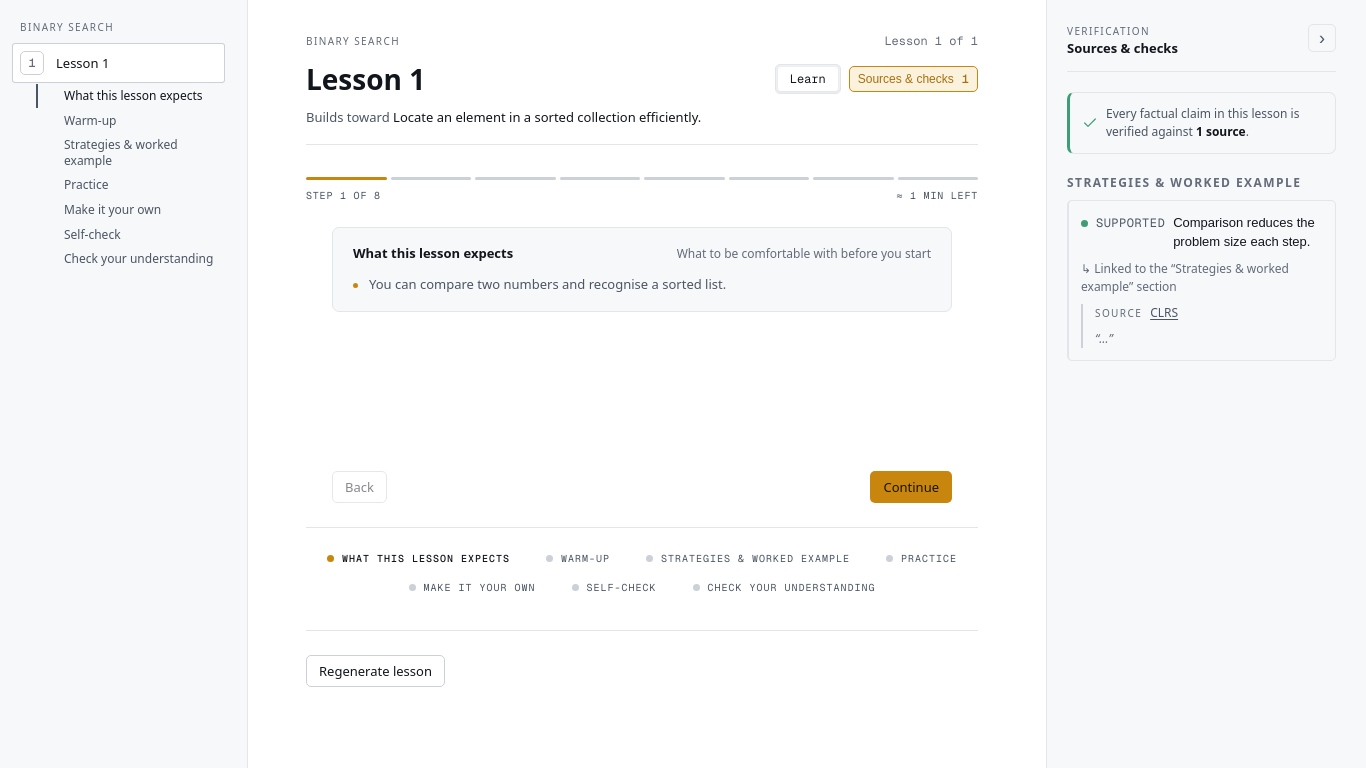
CourseReader — regenerate › regenerates the focused lesson and swaps in the returned course
The image size is (1366, 768).
Expected: the text "Locate an element in a sorted collection efficiently." is shown, left=393, top=108, right=701, bottom=126
Click the button "Regenerate lesson" at (376, 670), box left=306, top=654, right=445, bottom=686
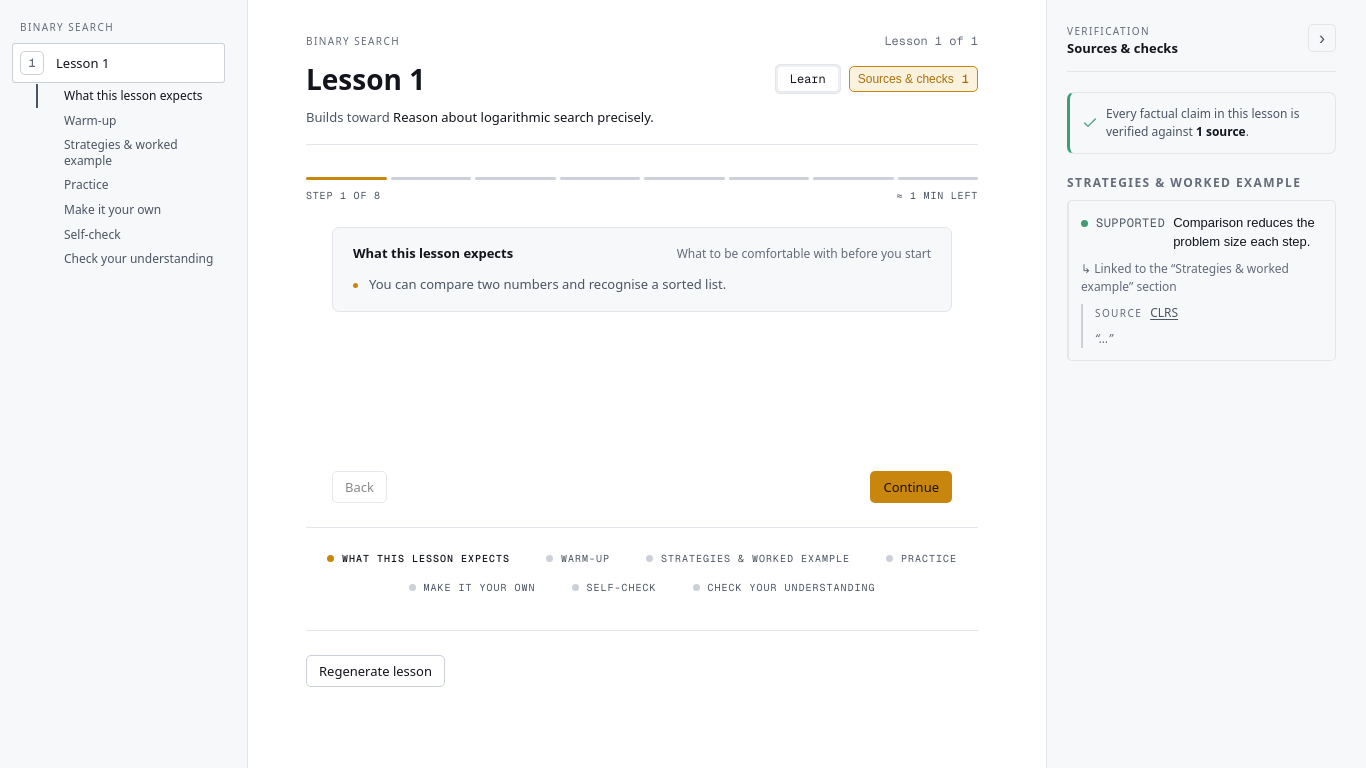
Now the text "Reason about logarithmic search precisely." is shown, box left=393, top=108, right=654, bottom=126
Now the text "Locate an element in a sorted collection efficiently." is gone
